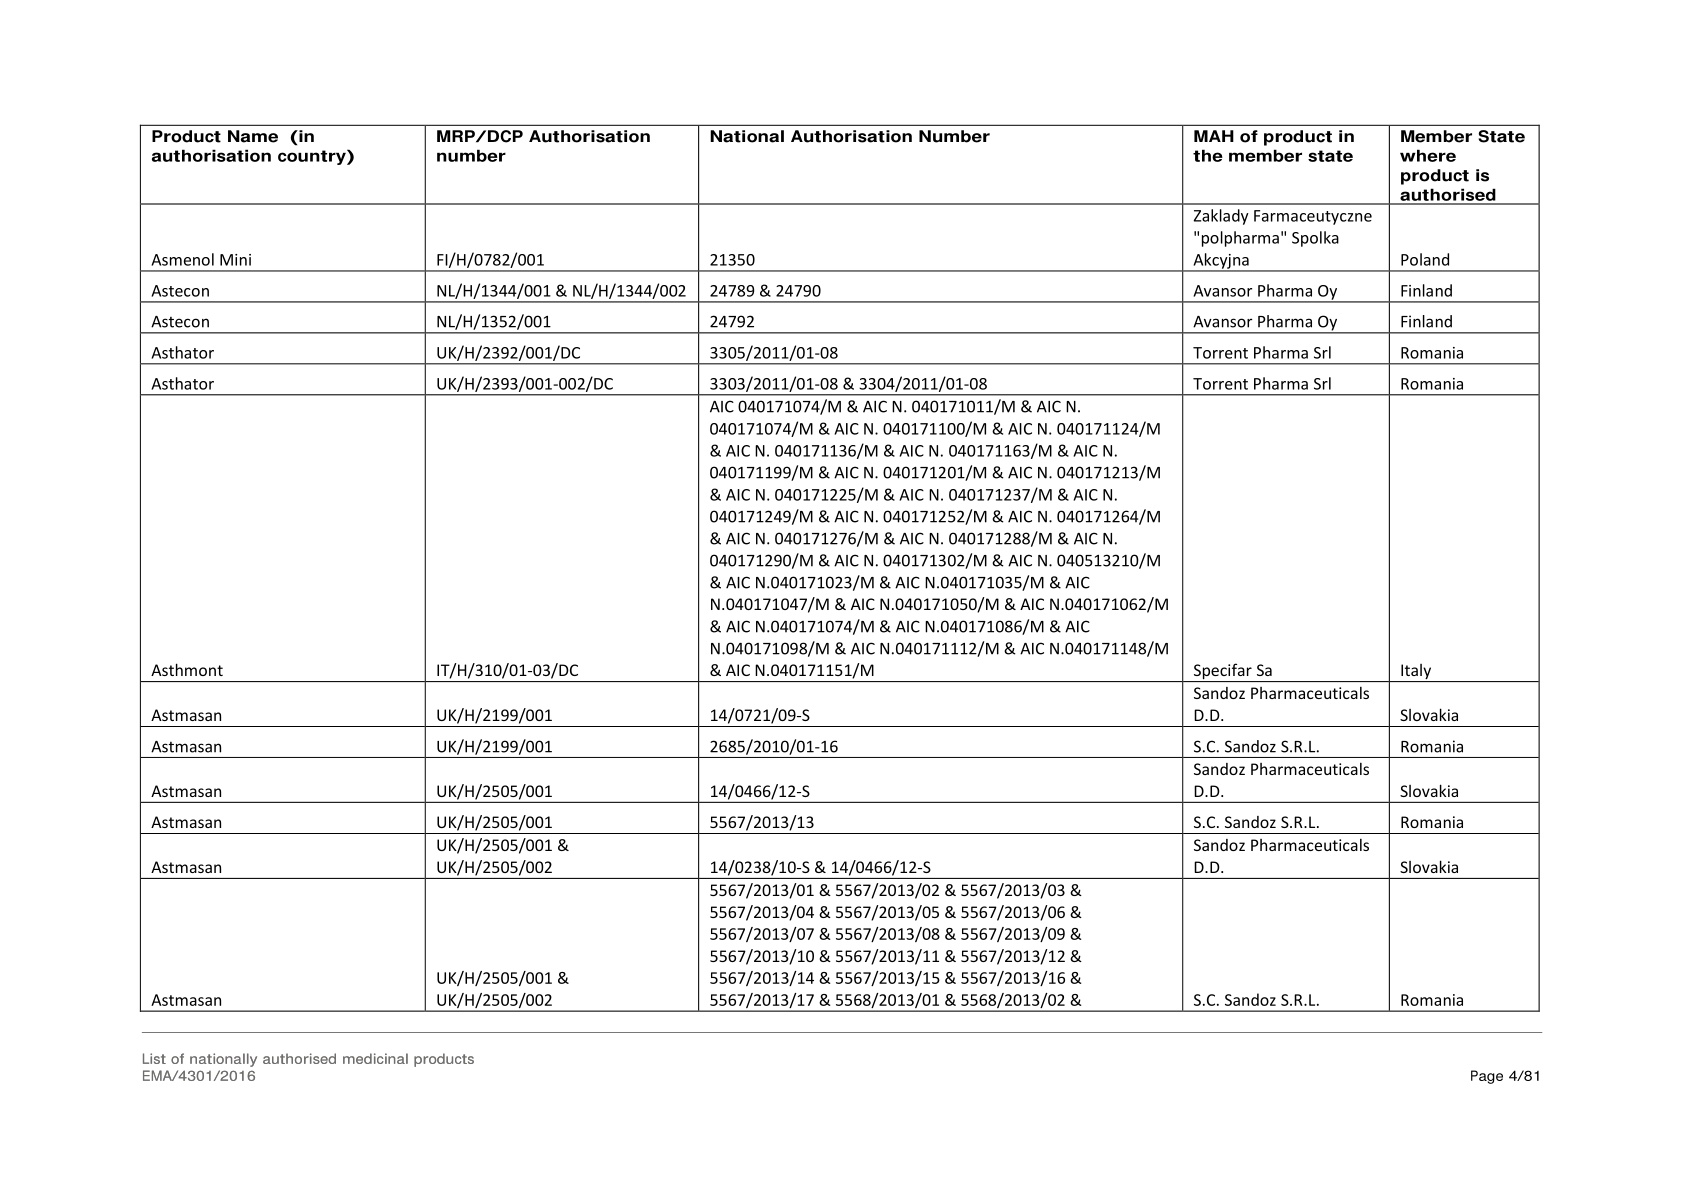full_lined: (138, 122, 1541, 1013)
